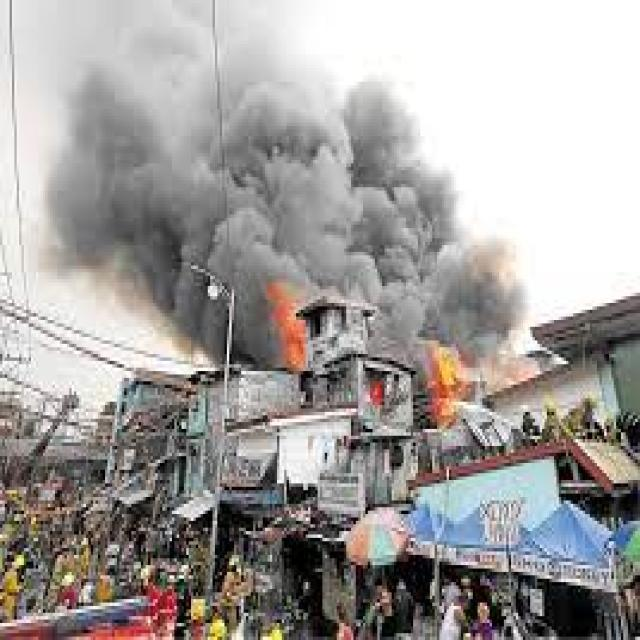Fire: (422, 346, 478, 414), (272, 275, 310, 364)
Smoke: (52, 0, 530, 303)
